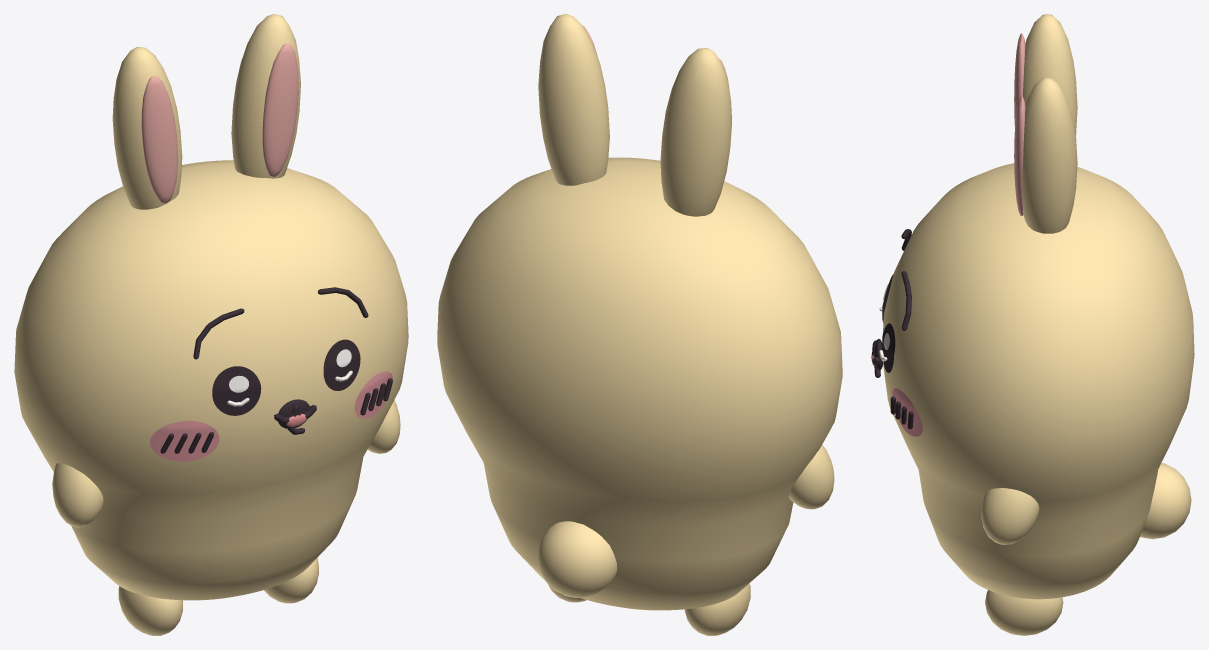
Rendered from villager_nureong.glb.
3 views of the same model, side by side, from view 1: azimuth 30°, elevation 25°; view 2: azimuth 150°, elevation 25°; view 3: azimuth 270°, elevation 25° (orthographic). The views are drawn at different scales.
Visible parts, largest first — view 1: villager_nureong__head, villager_nureong__eyes, villager_nureong__arm_R, villager_nureong__leg_R, villager_nureong__leg_L, villager_nureong__arm_L, villager_nureong__mouth_open; view 2: villager_nureong__head, villager_nureong__tail, villager_nureong__arm_R, villager_nureong__leg_R; view 3: villager_nureong__head, villager_nureong__arm_L, villager_nureong__leg_L, villager_nureong__tail, villager_nureong__eyes.
Part boxes in pixels (bbox=[...]): villager_nureong__head: bbox=[14, 14, 408, 600]; villager_nureong__eyes: bbox=[212, 339, 360, 415]; villager_nureong__arm_R: bbox=[52, 463, 103, 527]; villager_nureong__leg_R: bbox=[118, 586, 182, 635]; villager_nureong__leg_L: bbox=[264, 558, 318, 603]; villager_nureong__arm_L: bbox=[367, 400, 400, 453]; villager_nureong__mouth_open: bbox=[278, 399, 309, 428]; villager_nureong__head: bbox=[437, 14, 842, 610]; villager_nureong__tail: bbox=[537, 521, 617, 597]; villager_nureong__arm_R: bbox=[788, 445, 834, 509]; villager_nureong__leg_R: bbox=[684, 583, 750, 635]; villager_nureong__head: bbox=[883, 14, 1194, 599]; villager_nureong__arm_L: bbox=[981, 488, 1039, 544]; villager_nureong__leg_L: bbox=[985, 590, 1063, 635]; villager_nureong__tail: bbox=[1140, 463, 1191, 539]; villager_nureong__eyes: bbox=[879, 274, 895, 372].
Bounding box in the file's own units: 1.07 × 1.64 × 0.865.
